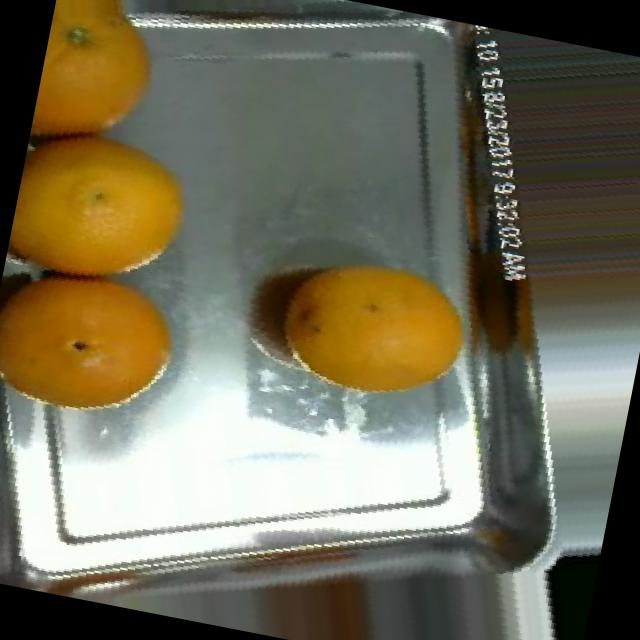Fruit: (258, 224, 502, 436), (0, 239, 212, 457), (3, 104, 221, 313)
